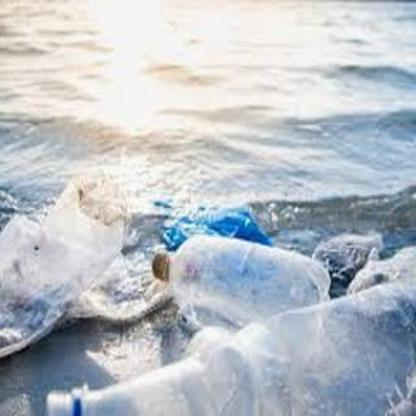plastic bottle: (45, 272, 416, 416), (152, 235, 332, 315)
